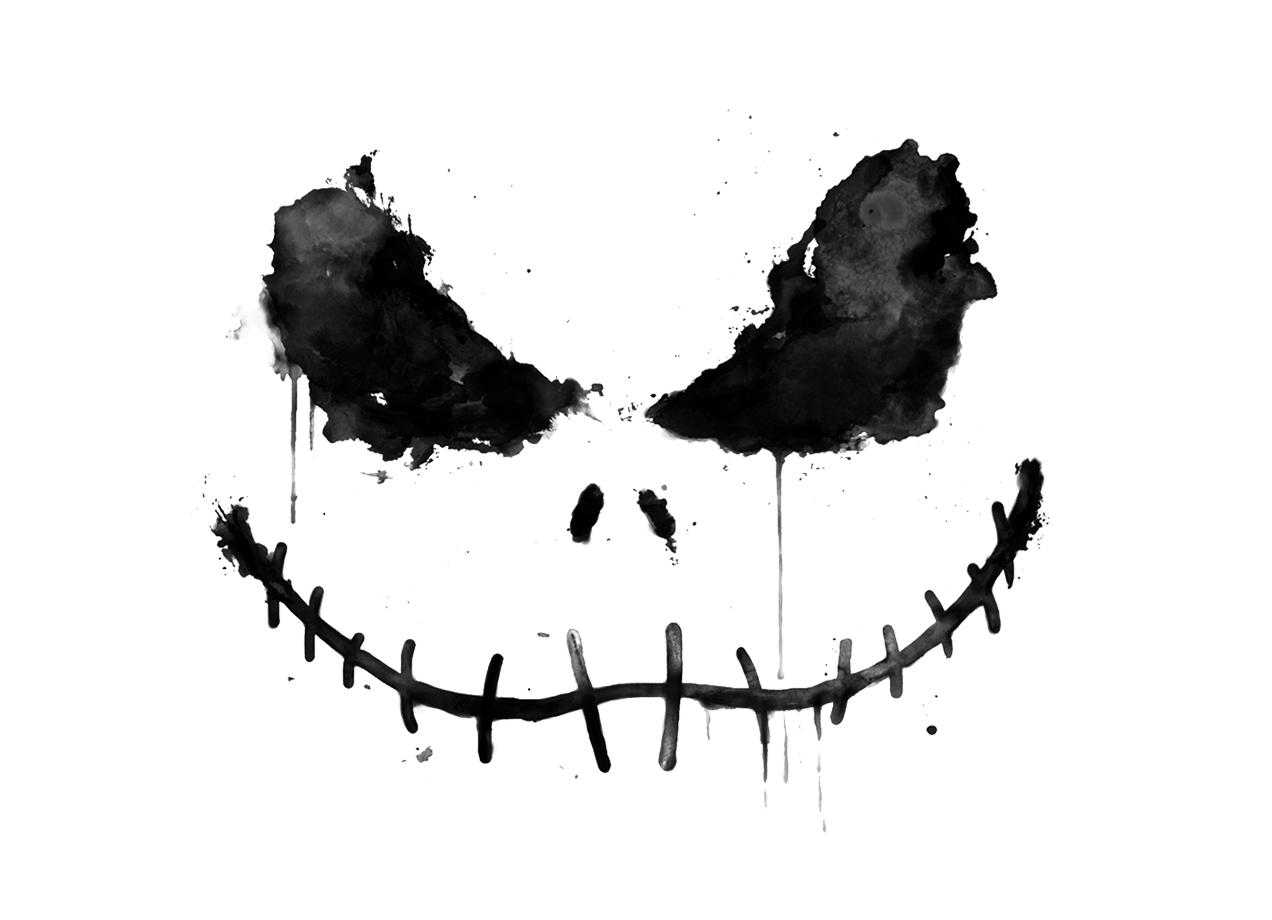Jack Skellington: (204, 136, 1053, 832)
